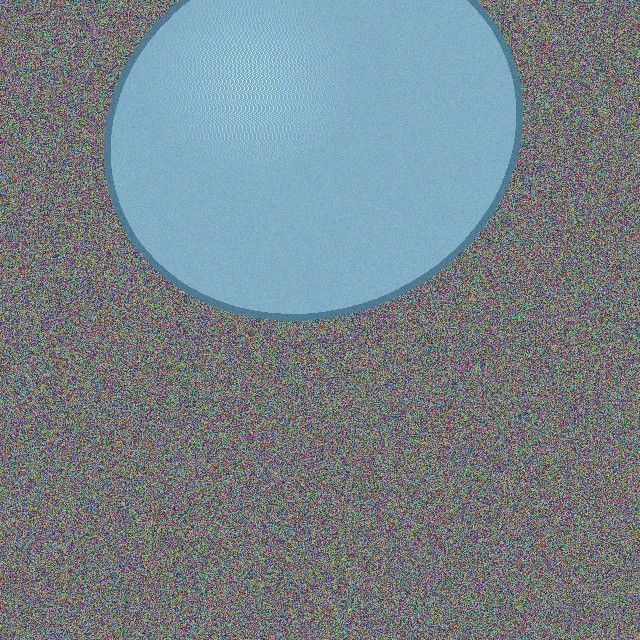lens: (107, 0, 519, 316)
